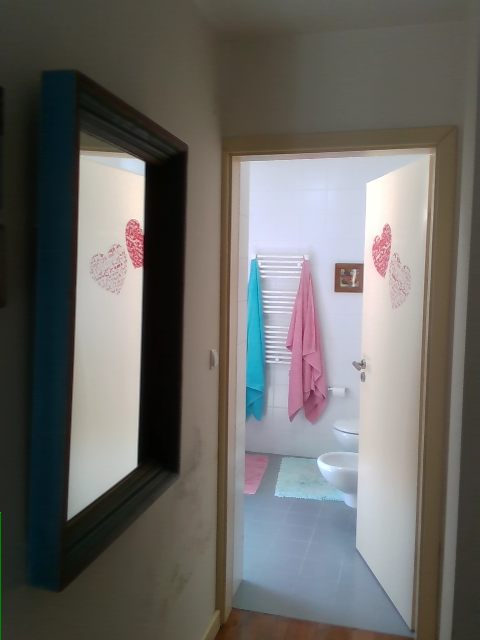open: (210, 129, 458, 639)
